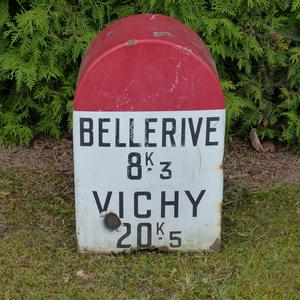kmstone: (63, 16, 229, 257)
